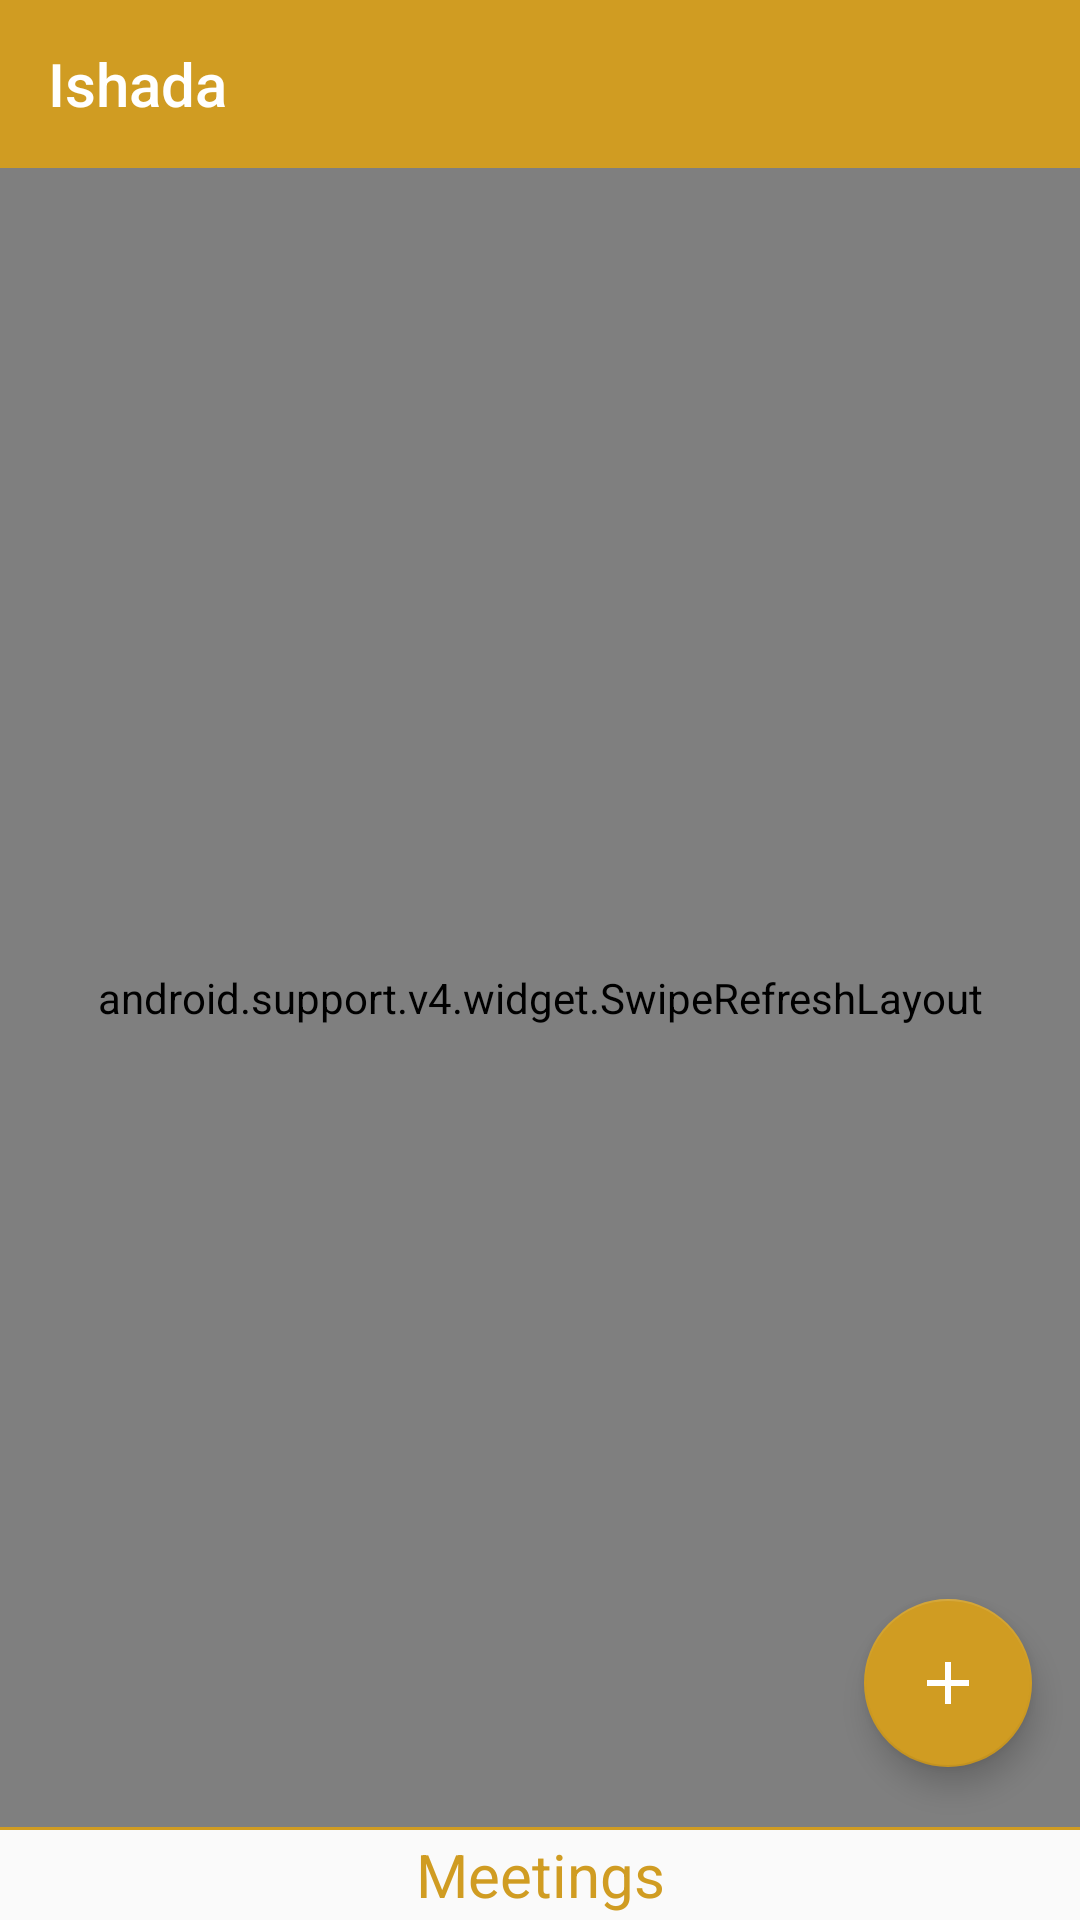

Named icons in this screenshot (1080×1920) and their bounding boxes, box(x1, y1, x2, y2):
add: box(864, 1599, 1032, 1767)
